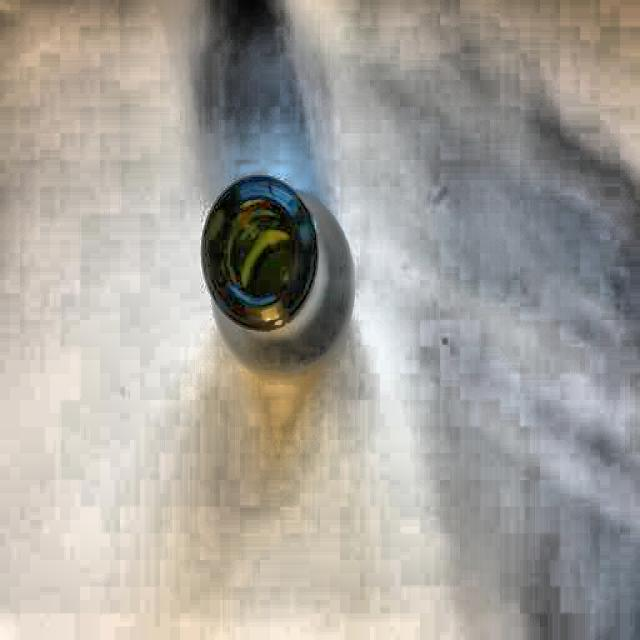glass: (198, 172, 356, 382)
